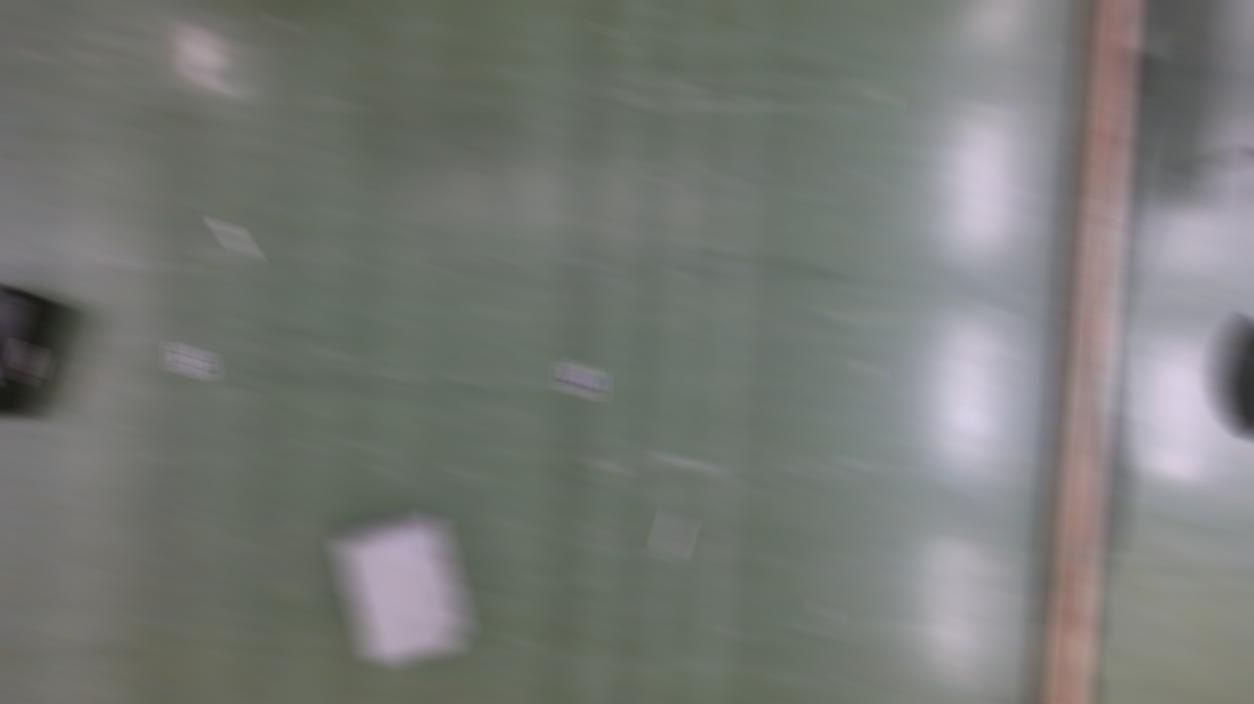probes: (220, 219, 252, 260), (660, 510, 686, 555)
rako: (336, 508, 470, 666), (0, 281, 71, 416)
